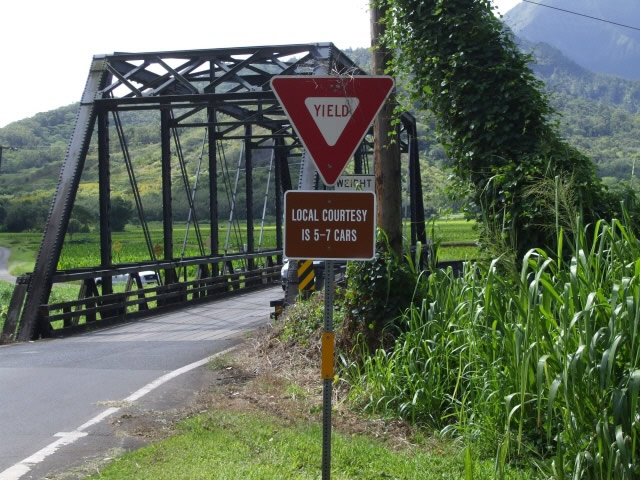yield_sign: (271, 75, 396, 186)
